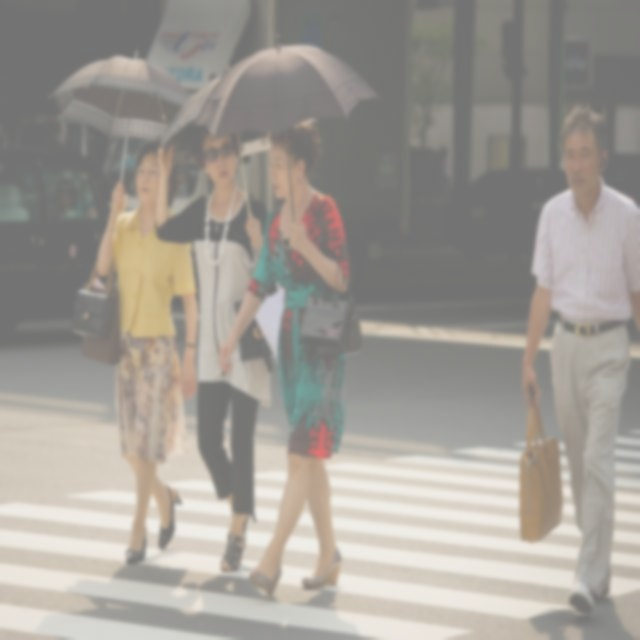pessoa: (216, 115, 366, 600), (516, 102, 639, 622), (154, 124, 274, 574), (95, 137, 199, 566)
